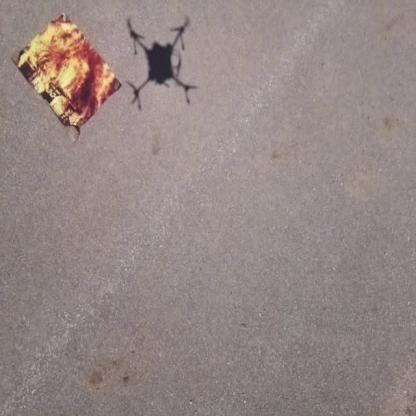fire-poster: (10, 11, 122, 139)
